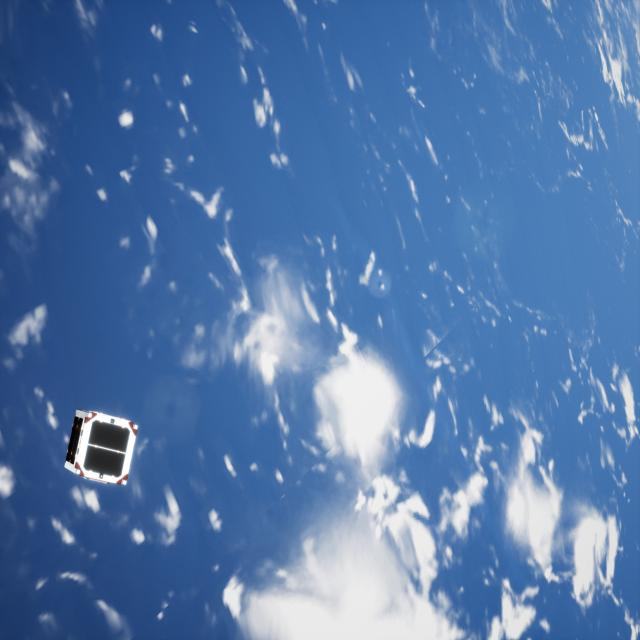medium_debris: (61, 402, 150, 491)
